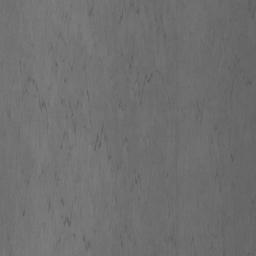Silk spot: (0, 0, 177, 251), (154, 96, 234, 162), (152, 194, 225, 256), (112, 3, 185, 48), (223, 56, 252, 112), (215, 171, 238, 192), (2, 223, 14, 256), (120, 224, 136, 248)
